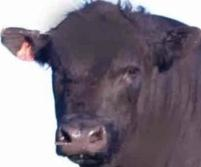muzzles: (54, 123, 112, 158)
